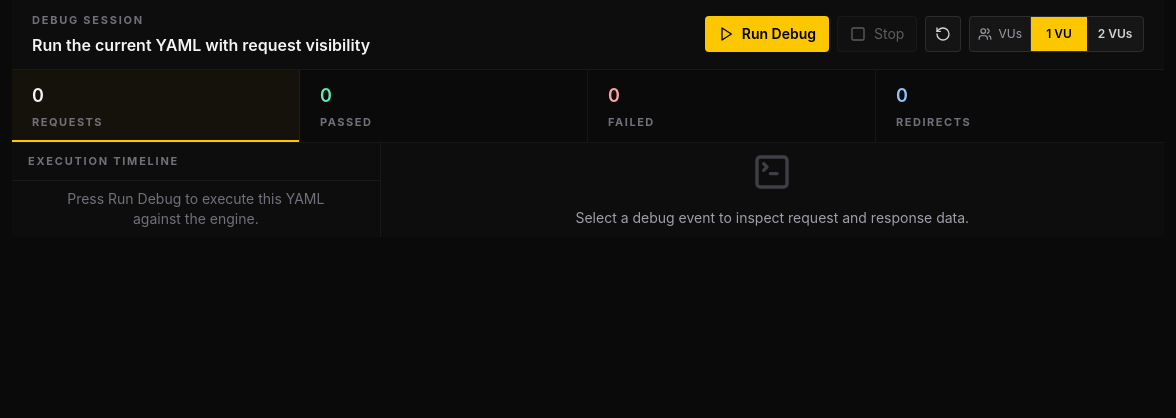
it: YAMLDebugSession RLP debug fixes › does not render explanatory text under the selected debug request title
Click the button "Run Debug".
click(767, 34)  # box x1=705 y1=16 x2=829 y2=52
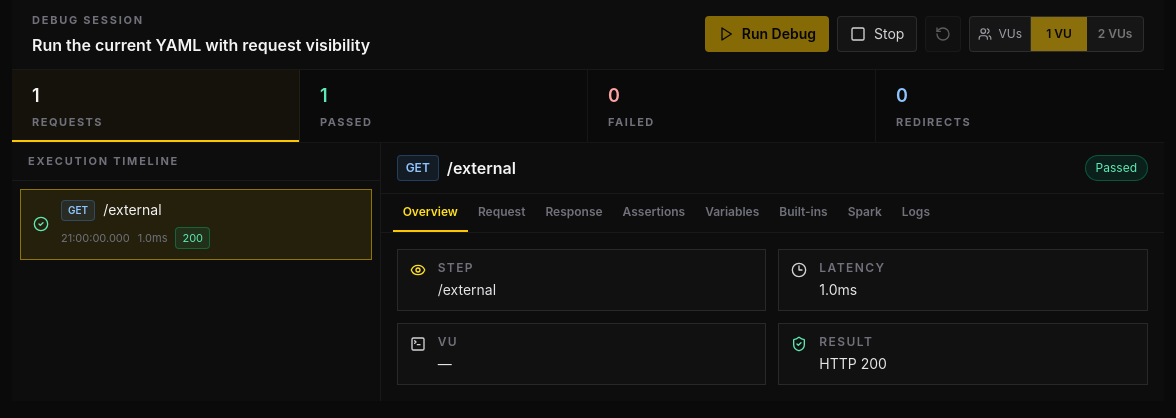
Check: the heading "/external" is shown, box x1=447 y1=156 x2=516 y2=180
